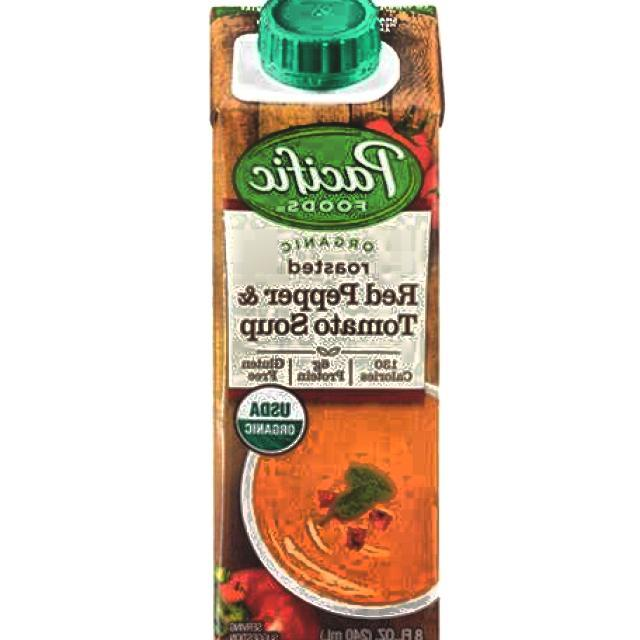cardboard: (209, 0, 446, 640)
